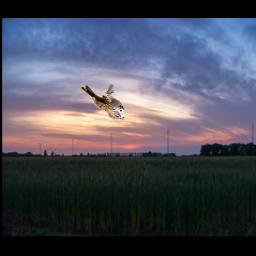Sparrow: (80, 84, 125, 120)
